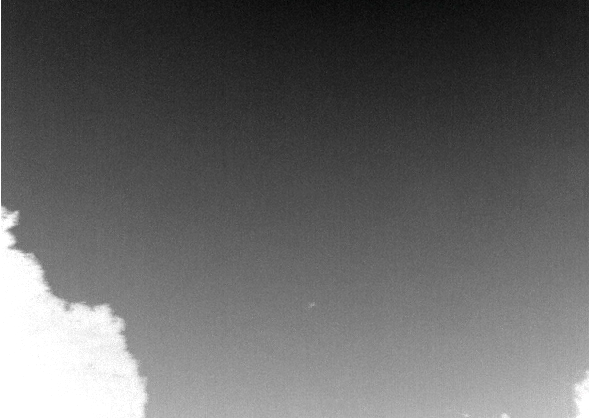dim target: (307, 301, 316, 308)
